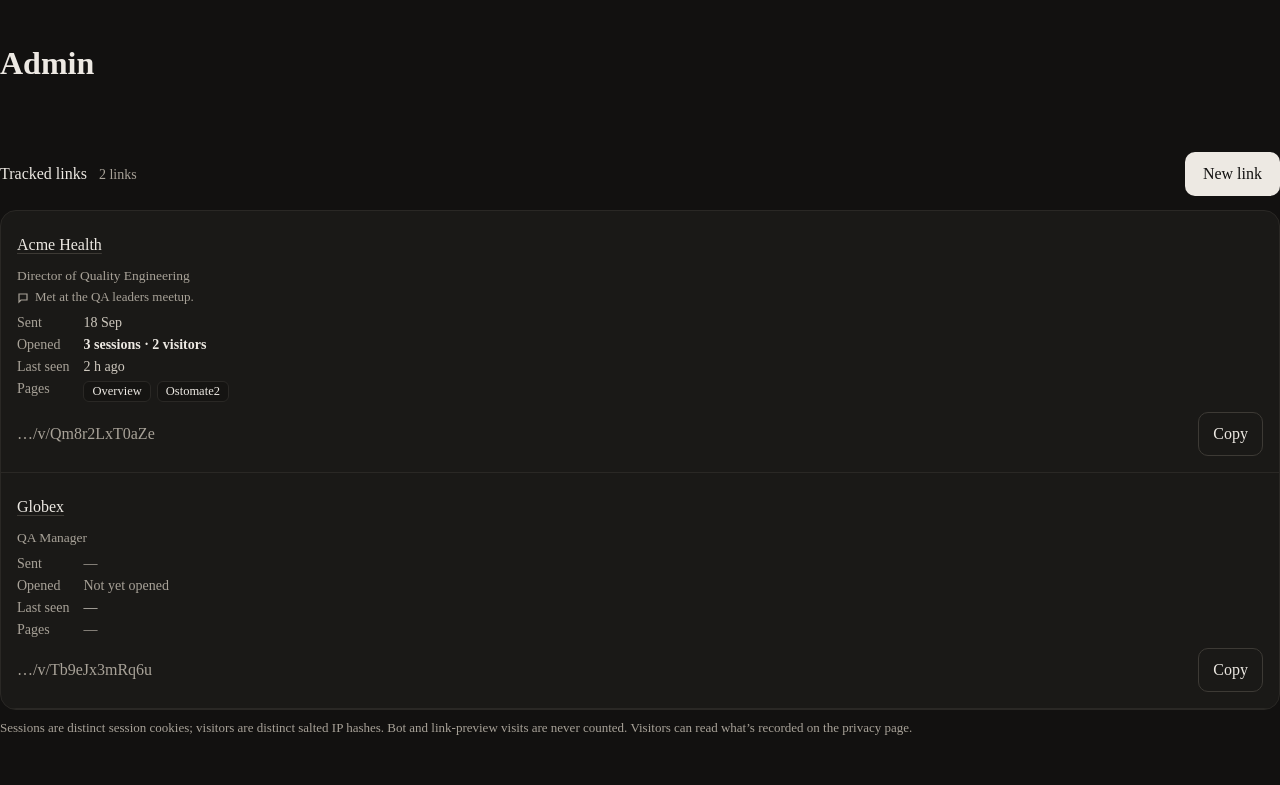
it: AdminLinks create form › opens with every field, the sent date today and None as the lead
Click the button "New link": (1232, 174) [1185,152,1279,196]
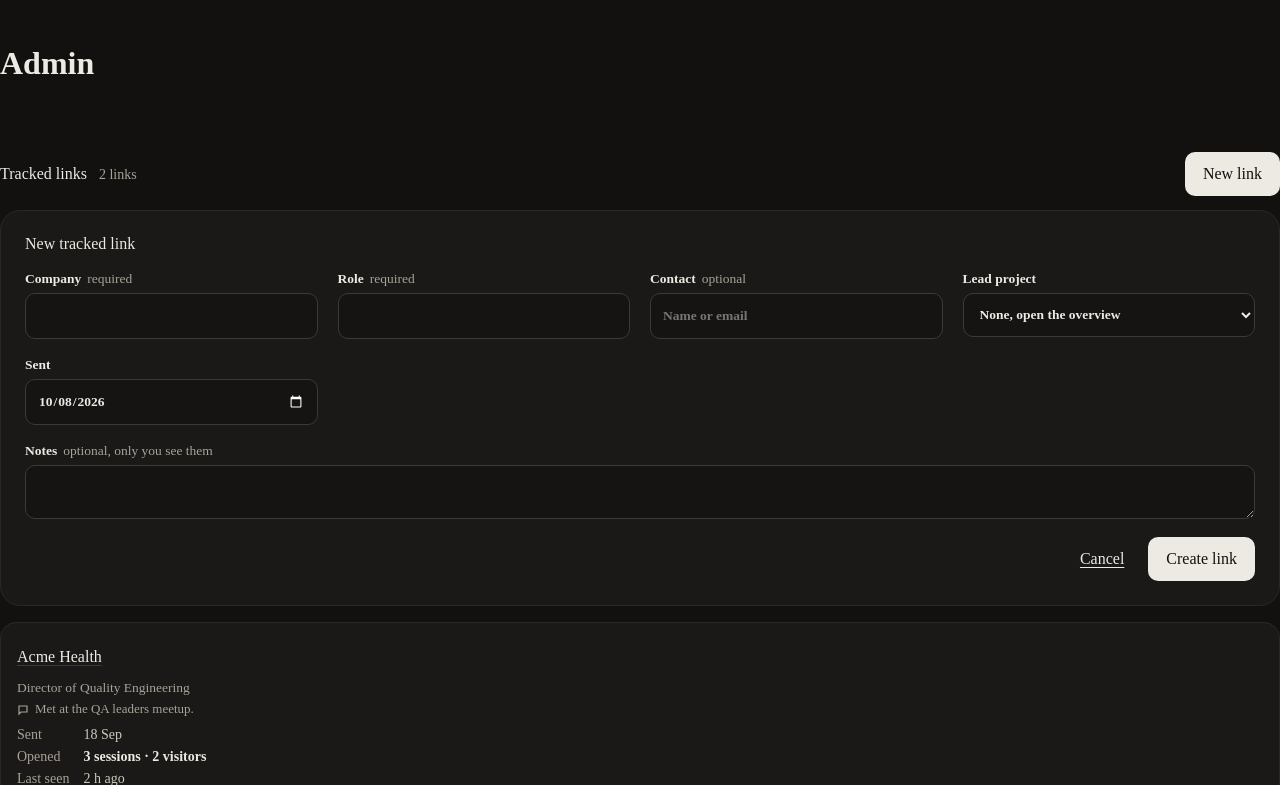
Expected: the dropdown labelled "Lead project" shows "None, open the overview"
Expected: the date field labelled "Sent" holds "2026-10-08", [25,379,318,425]
Expected: the text "optional, only you see them" is shown, [63,443,213,459]
Select "RouteServe (private)" in the dropdown labelled "Lead project": (1109, 315) [962,293,1255,337]
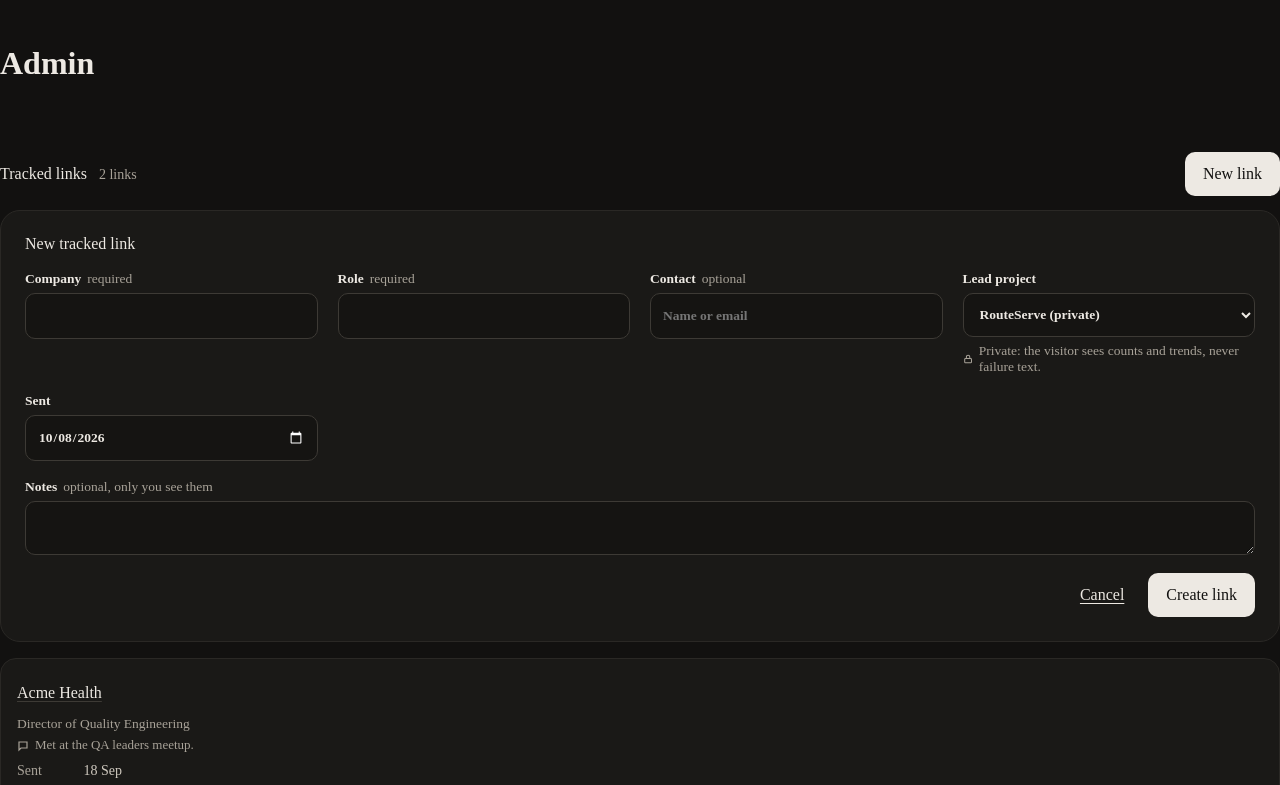
Expected: the text "Private: the visitor sees counts and trends, never failure text." is shown, [962,343,1255,375]
